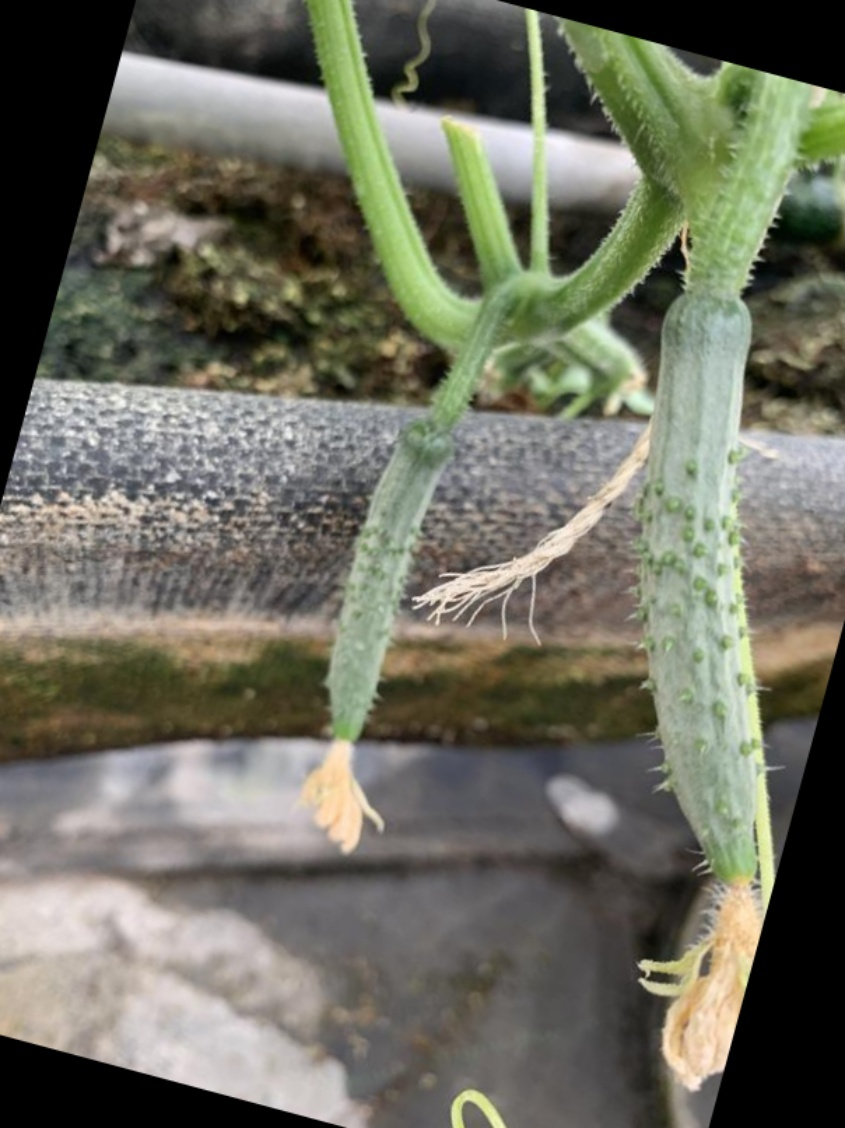bear: (306, 410, 465, 819)
growth: (613, 279, 767, 933)
